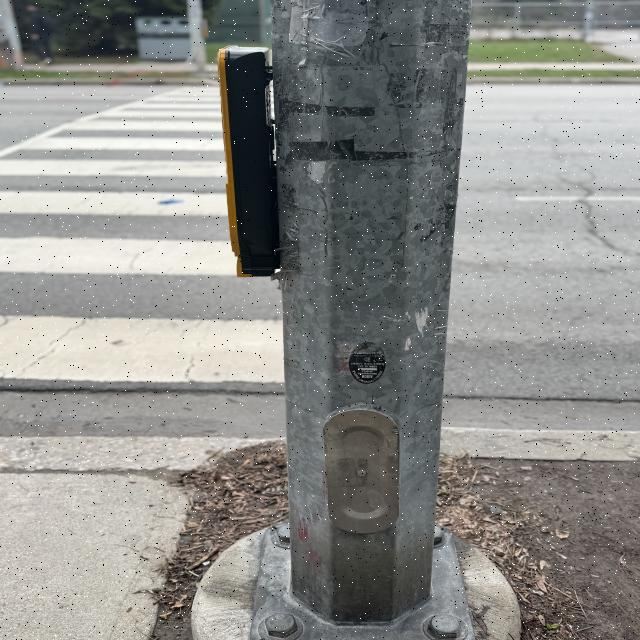Electrical Pole: (211, 0, 491, 640)
